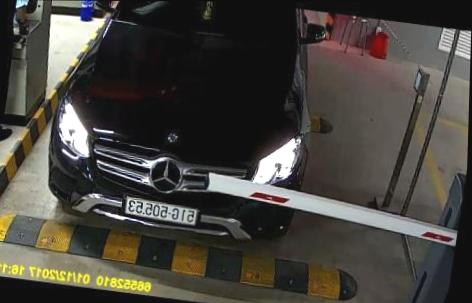License_Plate: (121, 196, 203, 226)
